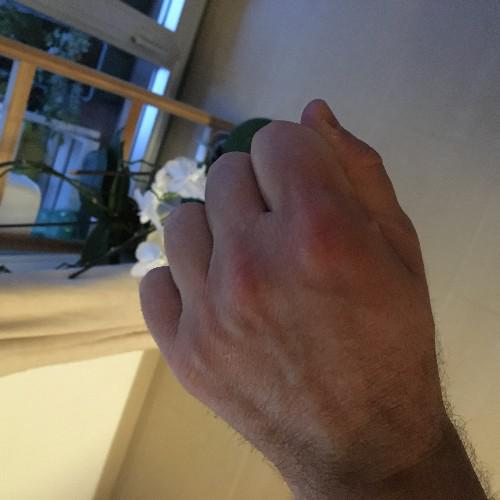rock: (106, 83, 461, 462)
